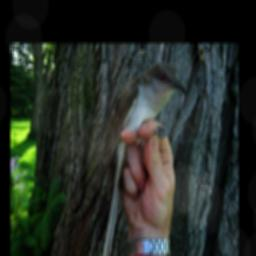Cuckoo: (94, 60, 190, 256)
